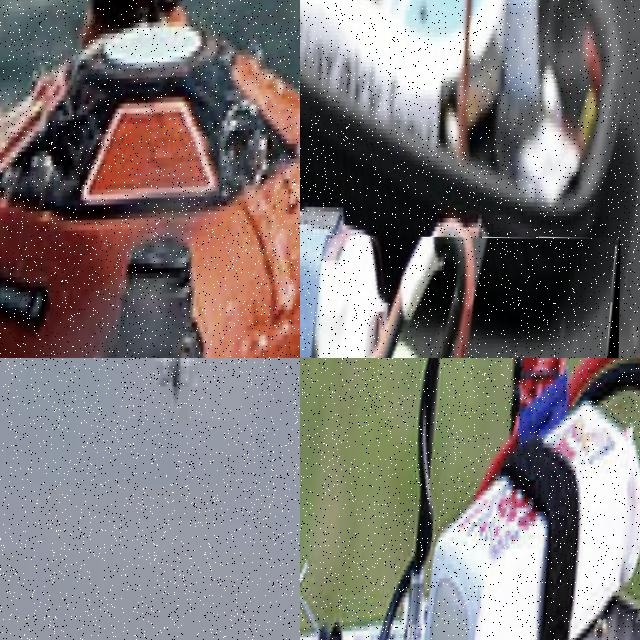drone: (0, 0, 300, 358), (300, 358, 640, 640), (300, 229, 620, 358)
